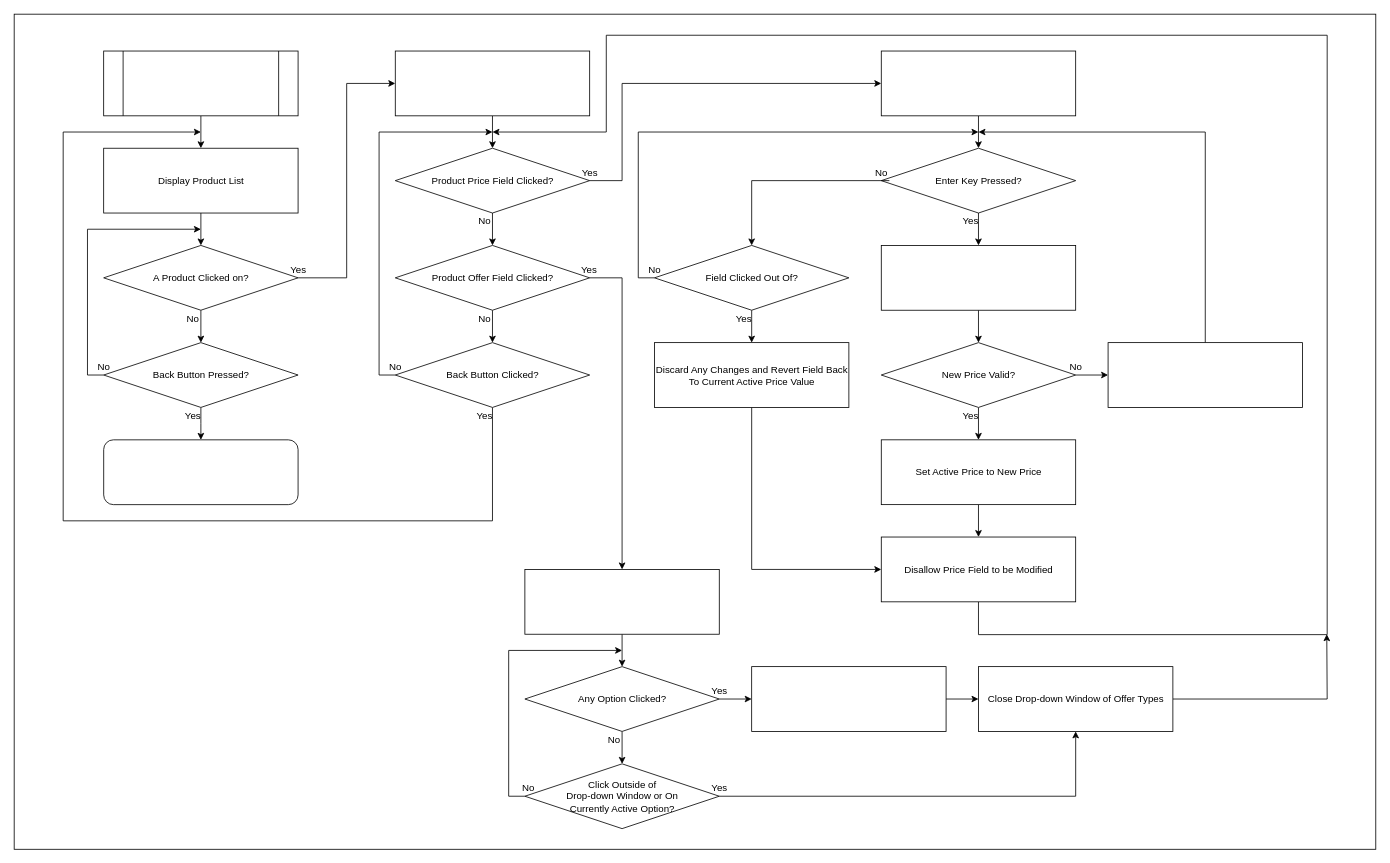
This 1390x863 diagram has some shape labels left out. Here are the shapes that lost their labels. From the top down, the centre of each, then its label:
At (200,83): "Price Control".
At (492,83): "Display Selected Product's Details with Modifiable Fields".
At (978,83): "Allow Price Field to be Modified".
At (978,277): "Validate New Price Value".
At (1204,374): "Invalid Price Error Message".
At (200,472): "Return".
At (621,601): "Open Drop-down Window of Offer Types".
At (848,698): "Set Selected Option to Active Offer".
